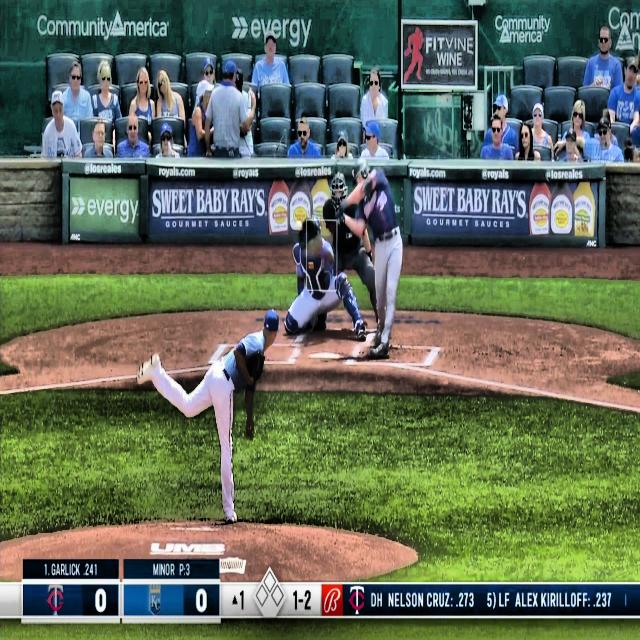baseball: (296, 220, 302, 232)
